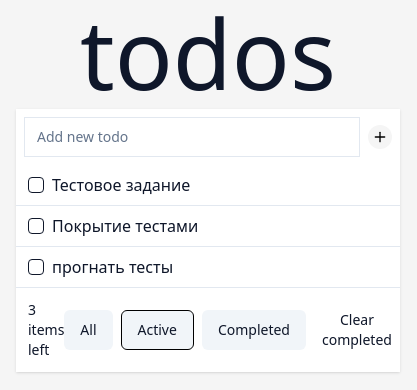
Test: Фильтрация Todo › Получение завершенных todo
Click the button with test id "filterCompletedButton": (254, 330) [202, 310, 306, 350]
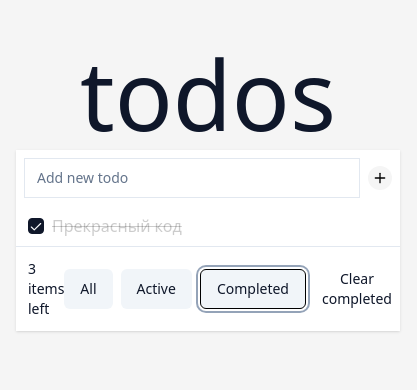
Expected: the text "Прекрасный код" is shown, [52, 218, 182, 234]
Expected: the text "Тестовое задание" is gone
Expected: the text "Покрытие тестами" is gone
